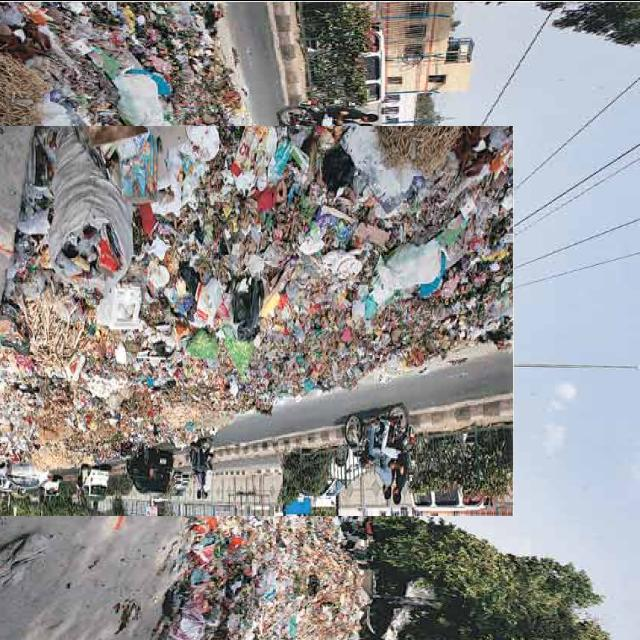garbage: (0, 63, 453, 578)
